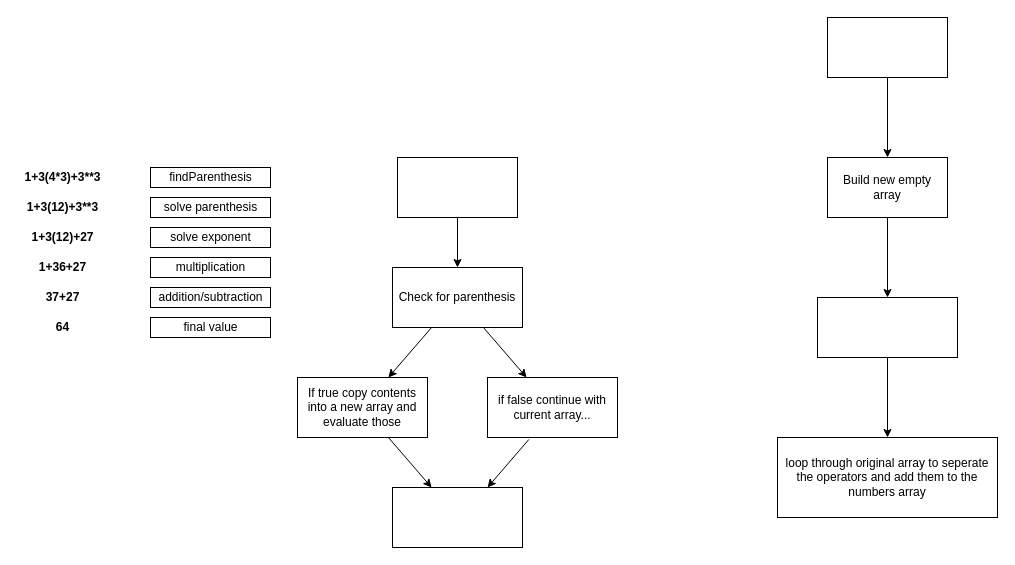
The diagram is 1015 pixels wide and 565 high, and some of its shapes have lost their labels. The shapes that lost their labels are listed below. From the top down, each one's centre as x and y in pixels, then its label:
point (887, 47): Start with original array
point (457, 187): Convert string to an array
point (887, 327): Add numbers to empty array
point (457, 517): Check for exponents
